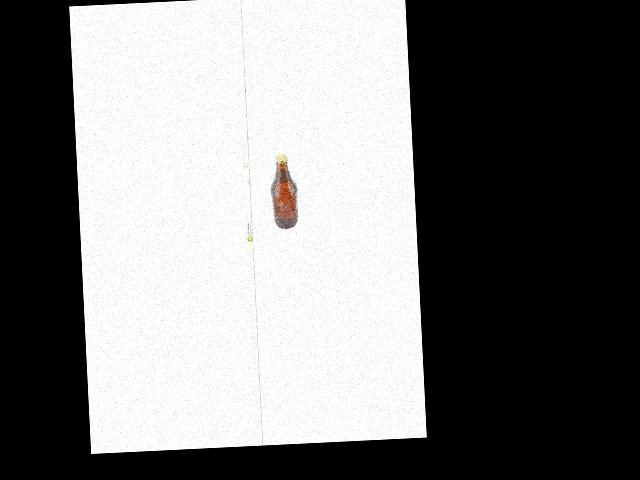beer: (268, 153, 298, 229)
